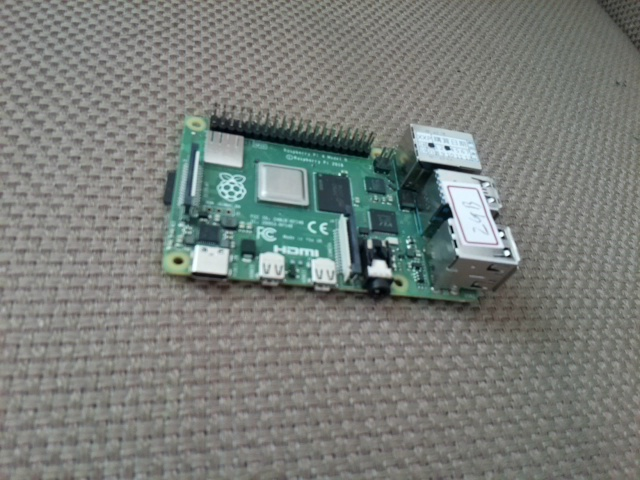Pi4: (153, 101, 526, 311)
